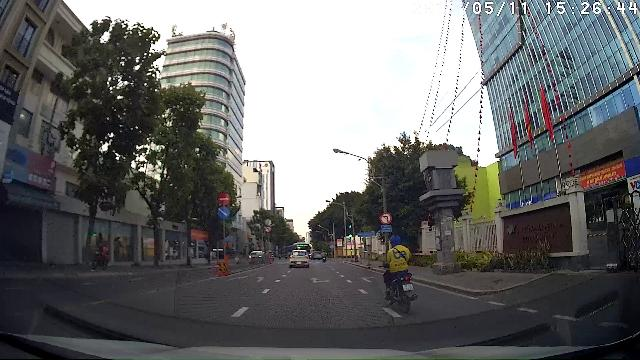102-cam-di-nguoc-chieu: (218, 192, 230, 206)
123a-cam-re-trai: (380, 212, 392, 224)
302a-huong-phai-di-vong-chuong-ngai-vat-1: (218, 206, 230, 220)
